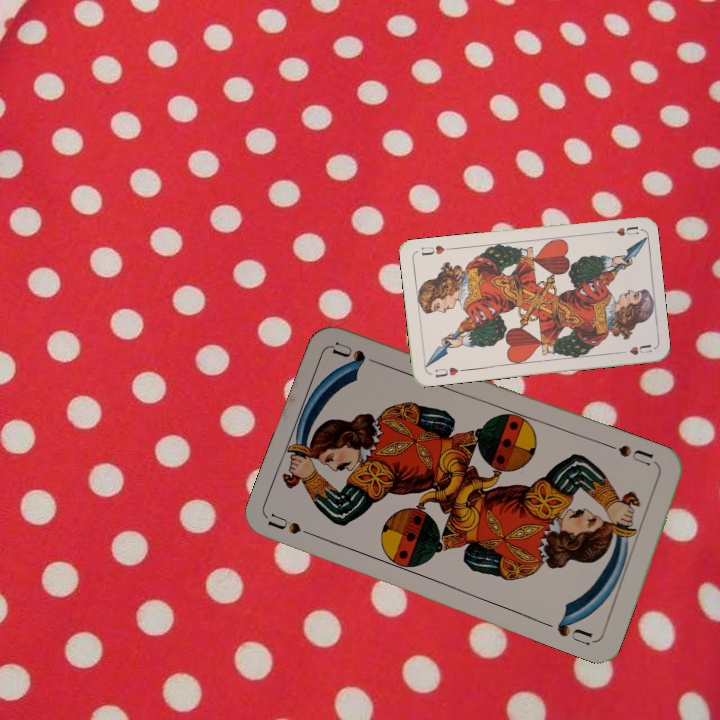HU: (601, 222, 641, 239), (431, 363, 467, 380)
SU: (266, 510, 324, 542), (614, 441, 656, 468)
